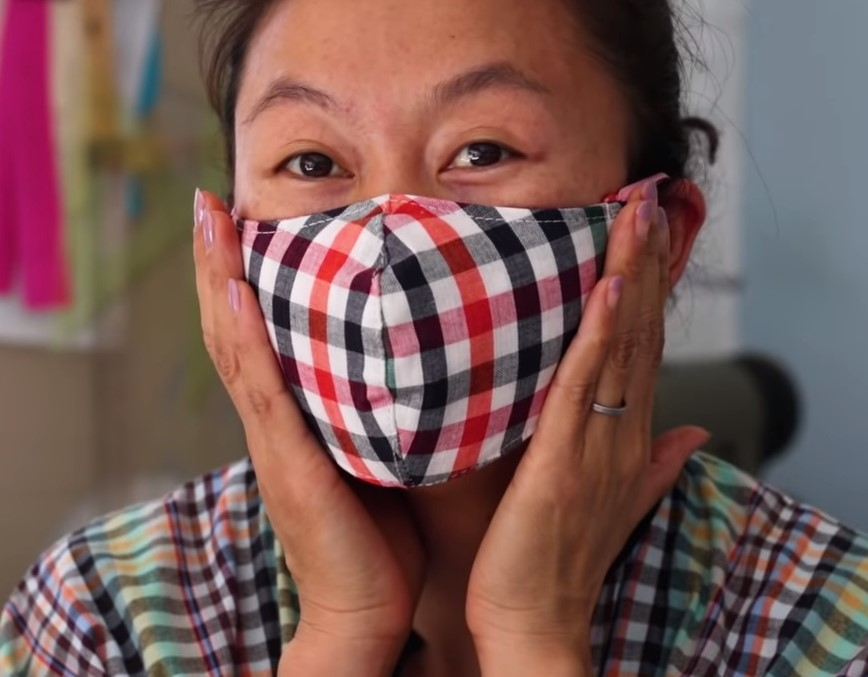face_with_mask: (174, 8, 697, 485)
